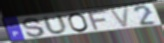2: (133, 5, 160, 28)
F: (86, 9, 109, 32)
O: (67, 13, 91, 34)
S: (21, 17, 47, 39)
U: (41, 13, 70, 36)
V: (108, 7, 131, 29)
